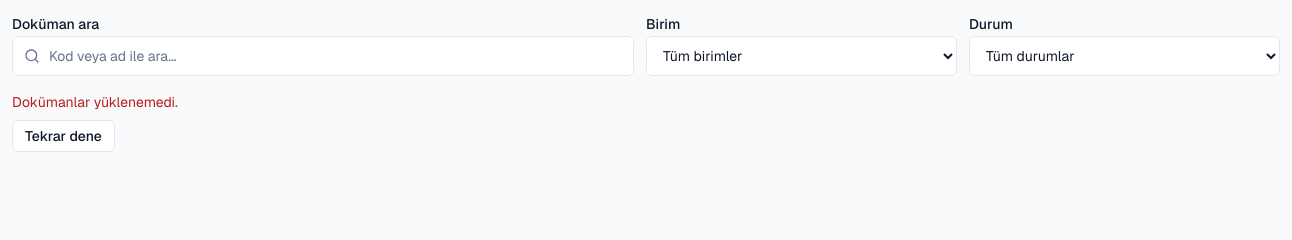
it: DocumentList › shows an error with a retry button
expect the message shows "Dokümanlar yüklenemedi.": met, box [12, 93, 178, 111]
Step 1. Click the button "Tekrar dene" → (63, 136), box [12, 120, 115, 152]
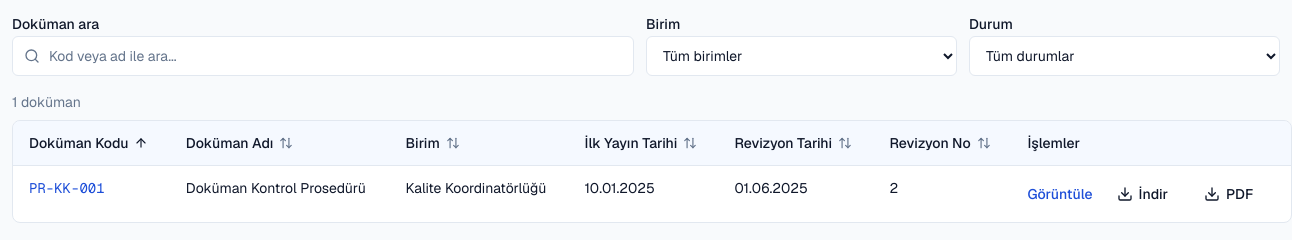
expect the table is shown: met, box [13, 121, 1291, 222]
